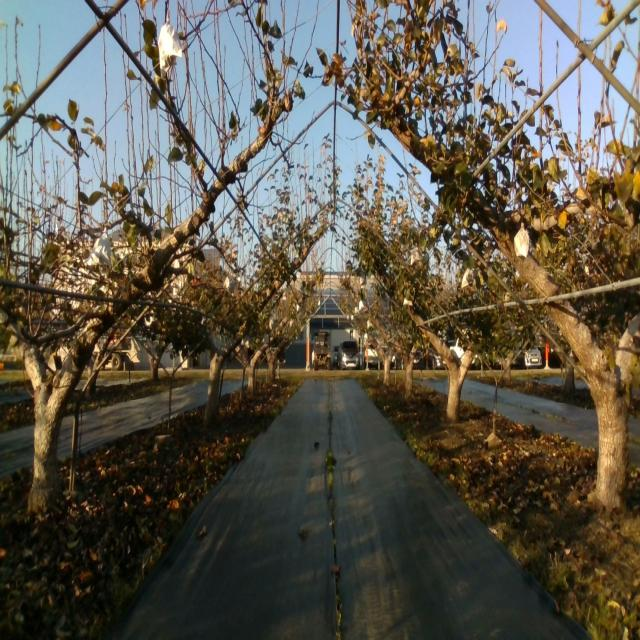pearbags: (158, 19, 182, 78), (86, 226, 111, 267), (513, 223, 530, 260), (461, 266, 476, 291), (409, 246, 424, 268), (223, 276, 235, 295)
